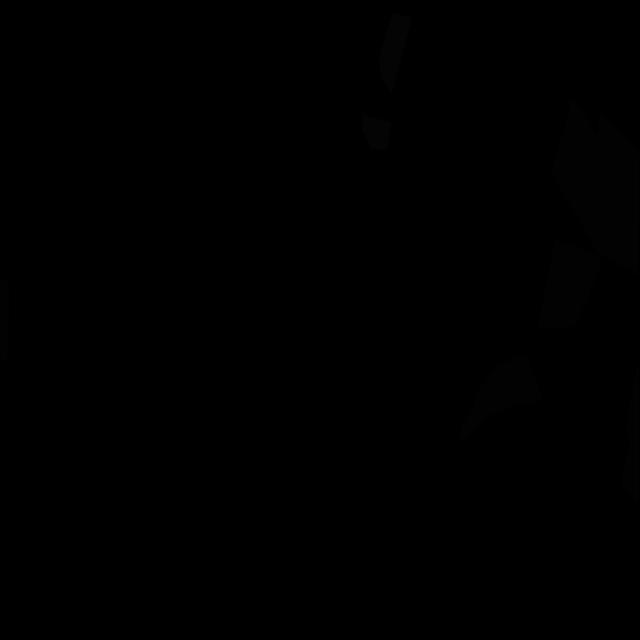cardboard: (551, 97, 640, 276), (459, 352, 544, 447), (538, 239, 601, 328), (621, 355, 639, 507)
soft_plastic: (378, 13, 412, 95), (362, 114, 391, 151)
